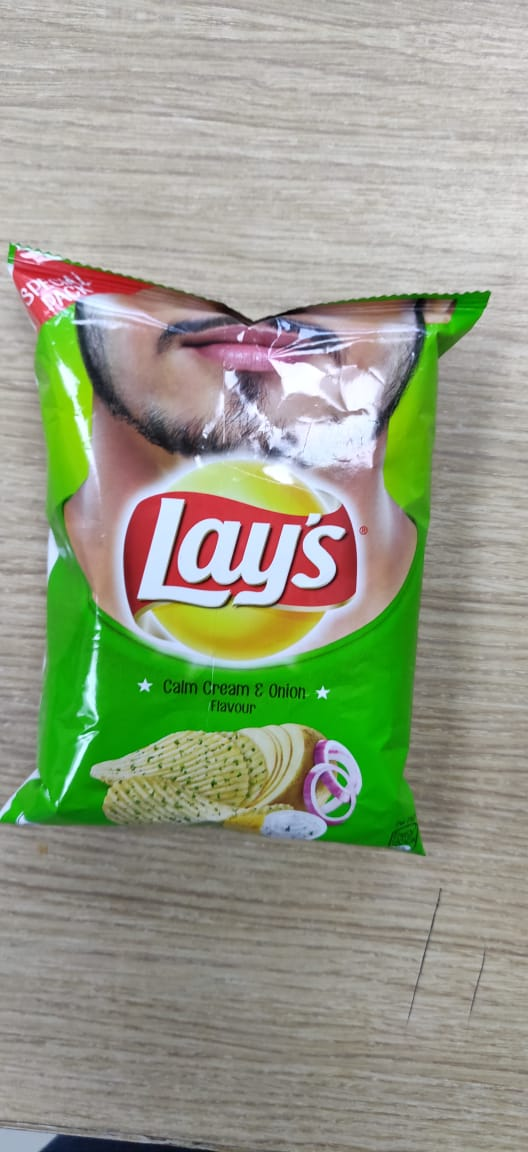lays chips: (6, 221, 499, 888)
